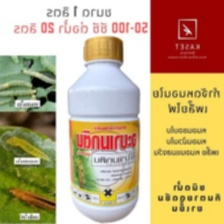insecticide: (65, 35, 143, 224)
